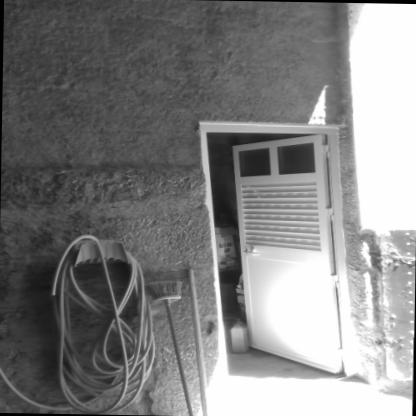semi: (189, 119, 355, 388)
